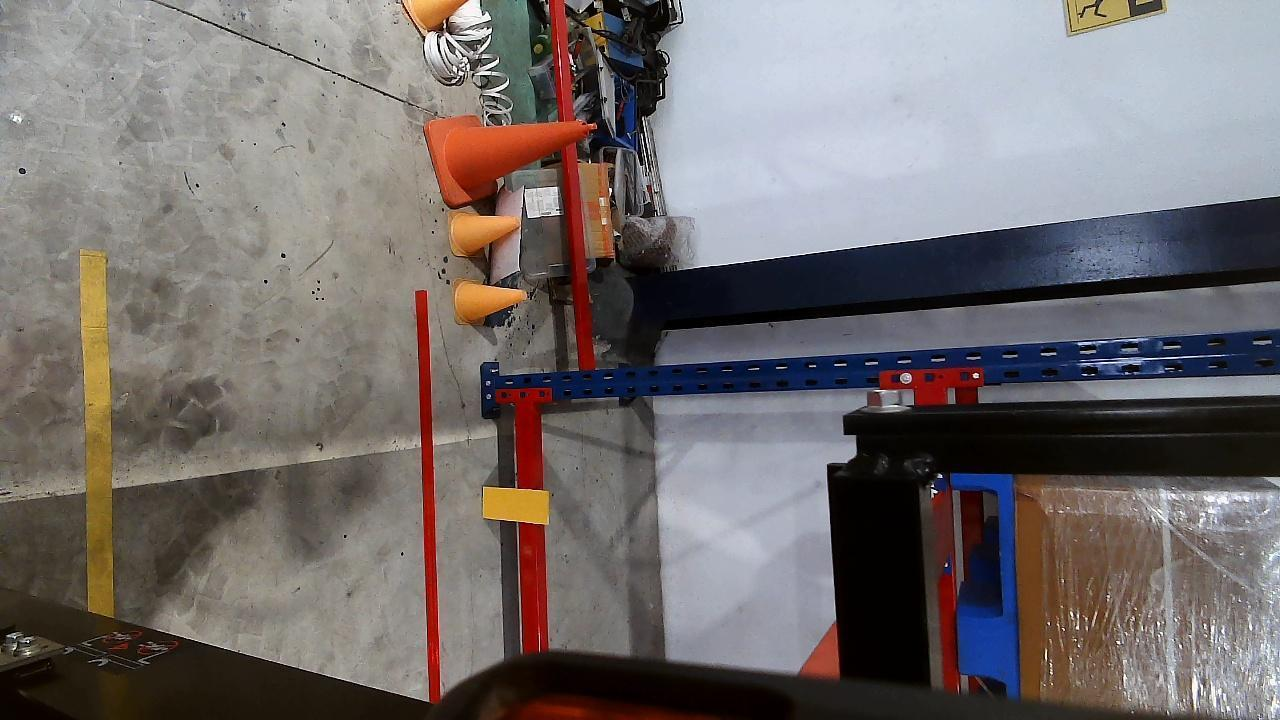red_line: (414, 291, 444, 704)
yellow_line: (79, 250, 113, 615)
